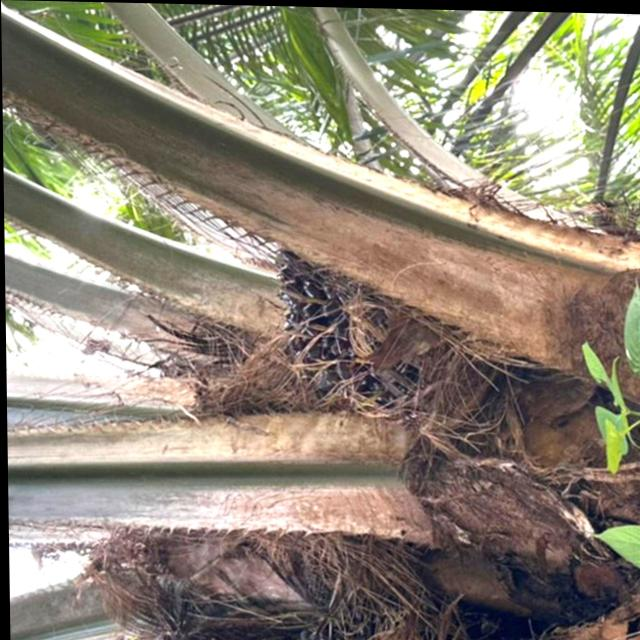almost: (264, 241, 414, 406)
